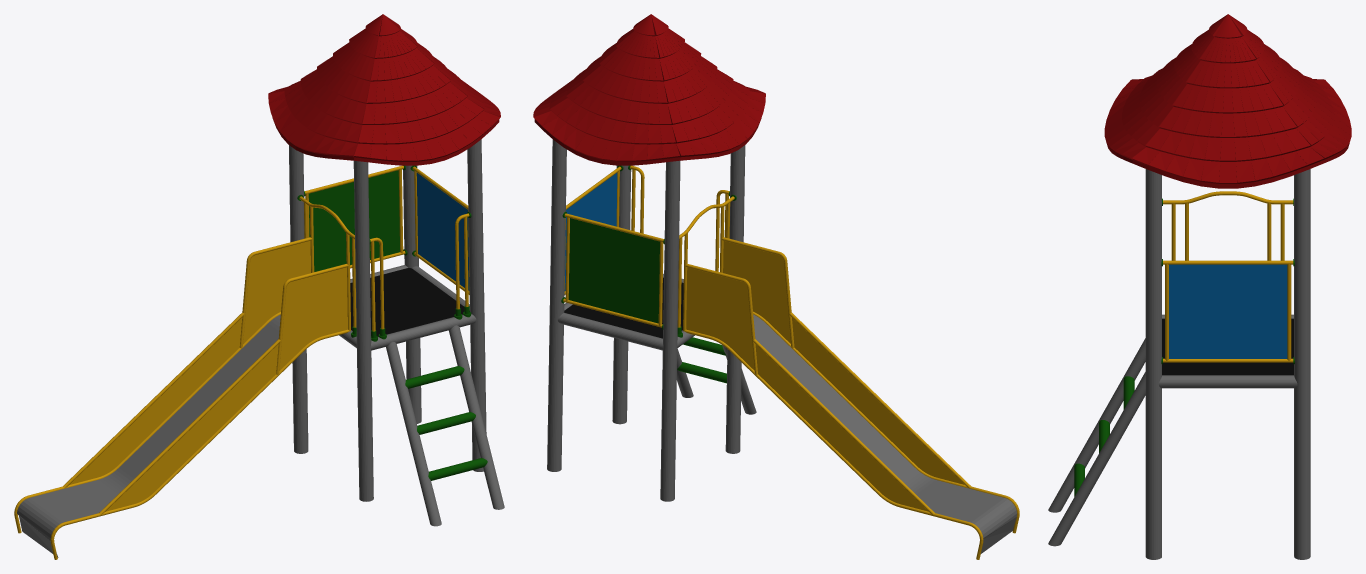
File: juegoFinal.obj
3 views of the same model, side by side, from view 1: azimuth 30°, elevation 25°; view 2: azimuth 150°, elevation 25°; view 3: azimuth 270°, elevation 25° (orthographic). The views are drawn at different scales.
Parts seen in each view (by area): view 1: Croquet_Ur; view 2: Croquet_Ur; view 3: Croquet_Ur.
Boxes of the visible parts, x1=… form: Croquet_Ur: x1=14, y1=14, x2=504, y2=559; Croquet_Ur: x1=533, y1=14, x2=1019, y2=559; Croquet_Ur: x1=1048, y1=14, x2=1351, y2=559.
Size of the model in its own units: 1.4 by 1.34 by 0.7239.
